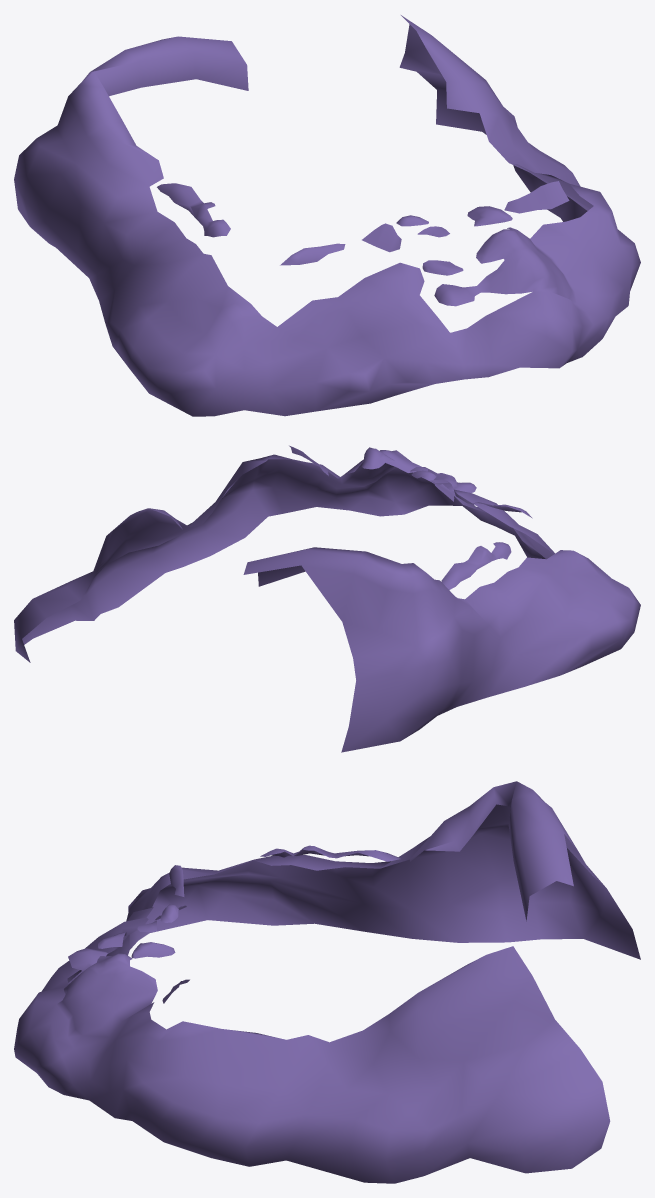
The model's file is snow.fbx.
3 views of the same model, one above another, from view 1: azimuth 30°, elevation 25°; view 2: azimuth 150°, elevation 25°; view 3: azimuth 270°, elevation 25° (orthographic). The views are drawn at different scales.
Visible parts, largest first — view 1: snow_low; view 2: snow_low; view 3: snow_low.
Boxes of the visible parts, x1,y1,x2,y2 form: snow_low: (14, 15, 640, 416); snow_low: (14, 445, 640, 752); snow_low: (14, 781, 640, 1183).
Bounding box in the file's own units: 826 × 307 × 832.
